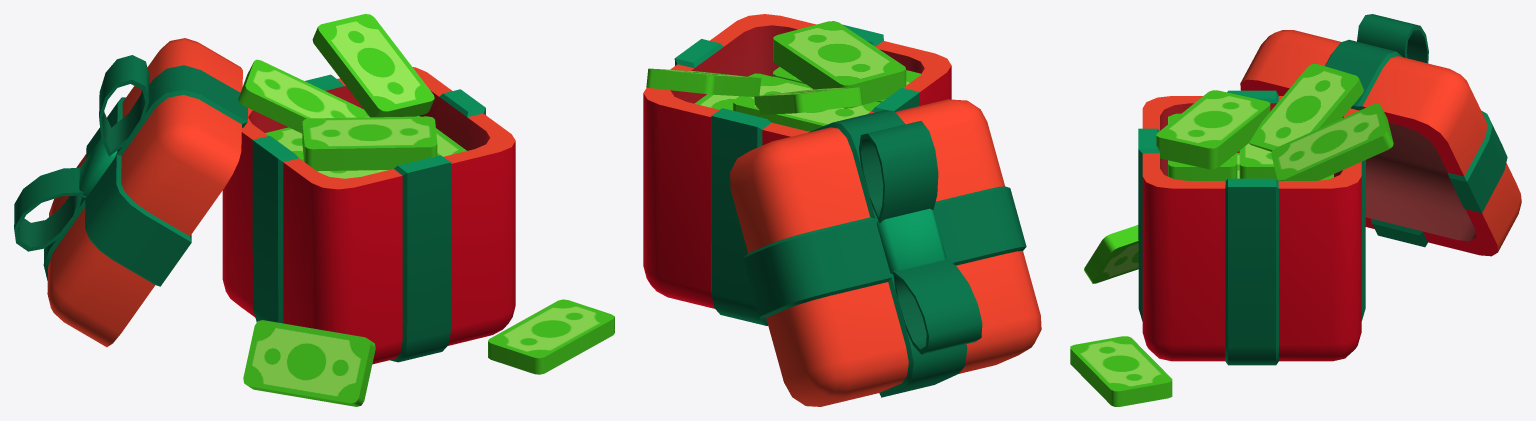
Rendered from Money_Case_Noel.fbx.
3 renders of one model, left to right at view 1: azimuth 30°, elevation 25°; view 2: azimuth 150°, elevation 25°; view 3: azimuth 270°, elevation 25°, orthographic. The views are drawn at different scales.
Visible parts, largest first — view 1: Money_Case_Noel, Moneycasenoel; view 2: Money_Case_Noel, Moneycasenoel; view 3: Money_Case_Noel, Moneycasenoel.
Part boxes in pixels (x1,y1,x2,y2): Money_Case_Noel: (14, 38, 515, 364); Moneycasenoel: (238, 14, 614, 406); Money_Case_Noel: (643, 14, 1041, 406); Moneycasenoel: (646, 21, 920, 131); Money_Case_Noel: (1138, 14, 1521, 365); Moneycasenoel: (1070, 64, 1393, 406).
Size of the model in its own units: 112 by 58.68 by 103.
